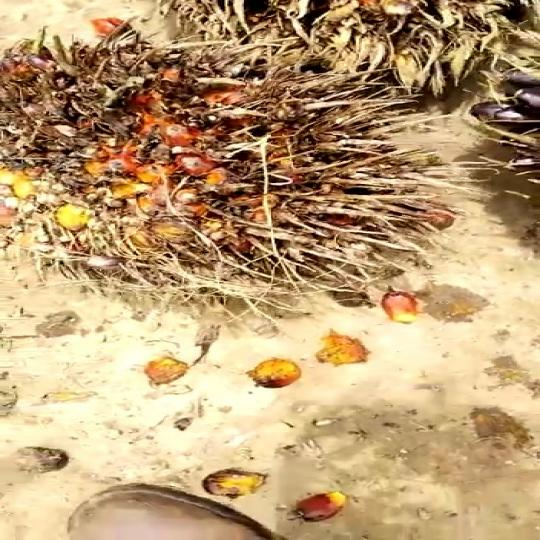terlalu masak: (0, 31, 480, 340)
